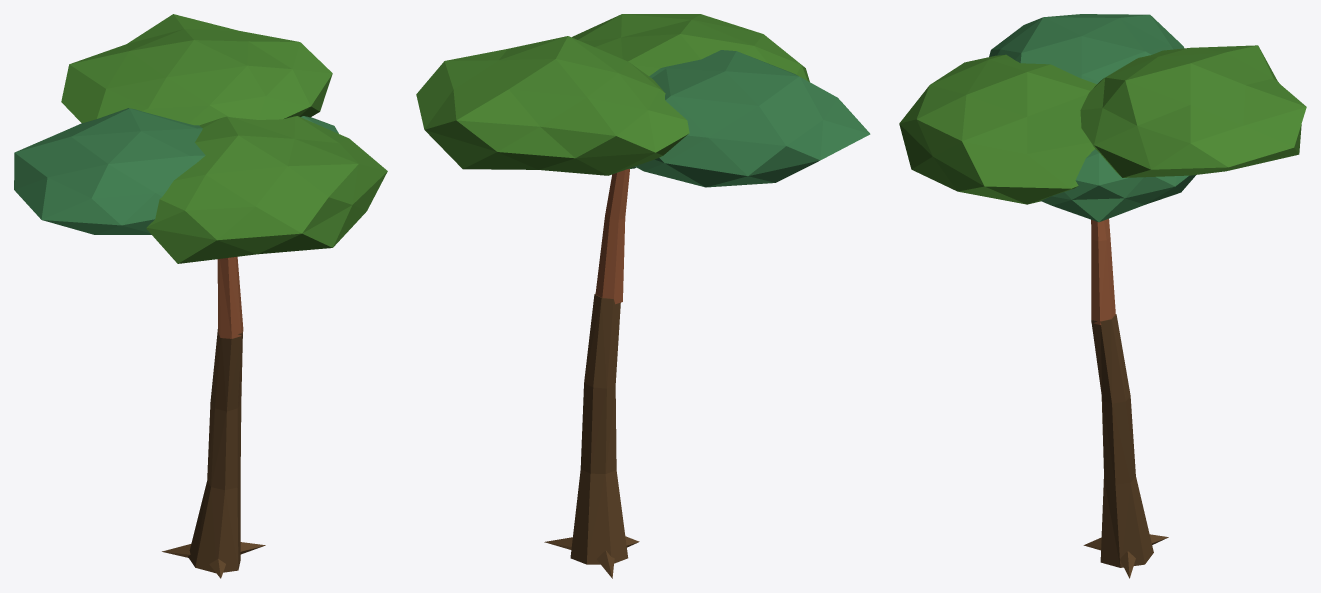
The model's file is HS_LP_Tree_ScotsPine_01.fbx.
The picture shows the model from 3 angles, left to right: view 1: azimuth 30°, elevation 25°; view 2: azimuth 150°, elevation 25°; view 3: azimuth 270°, elevation 25°; orthographic projection. The views are drawn at different scales.
Parts seen in each view (by area): view 1: HS_LP_Tree_ScotsPine_01; view 2: HS_LP_Tree_ScotsPine_01; view 3: HS_LP_Tree_ScotsPine_01.
Boxes of the visible parts, x1=… form: HS_LP_Tree_ScotsPine_01: x1=14, y1=14, x2=387, y2=578; HS_LP_Tree_ScotsPine_01: x1=416, y1=14, x2=870, y2=578; HS_LP_Tree_ScotsPine_01: x1=899, y1=14, x2=1306, y2=578.
Bounding box in the file's own units: 422 × 581 × 430.
